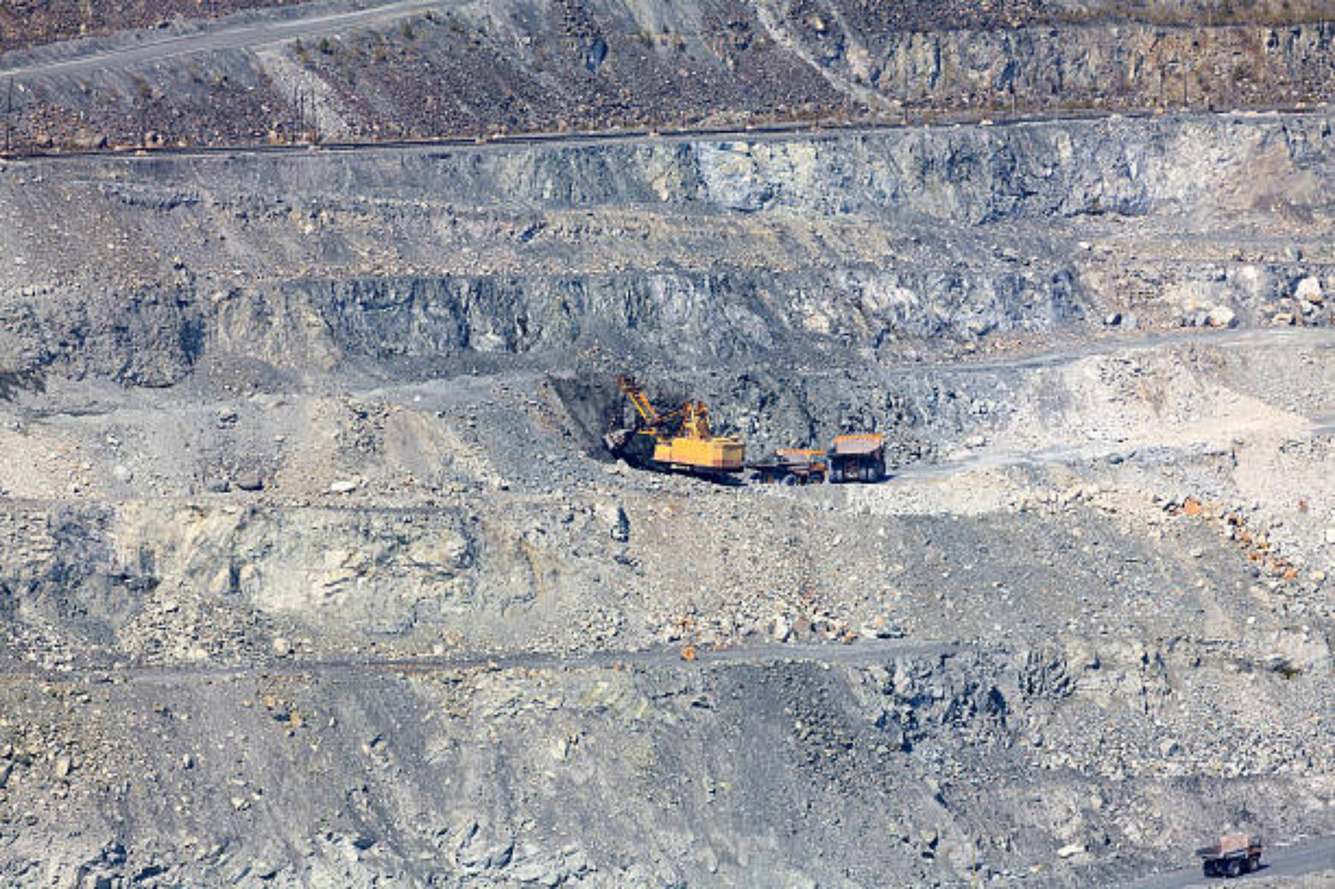excavator: (612, 376, 744, 487)
truck: (836, 433, 890, 482), (768, 450, 823, 487)
wall: (4, 658, 1298, 887), (0, 486, 1315, 660)
